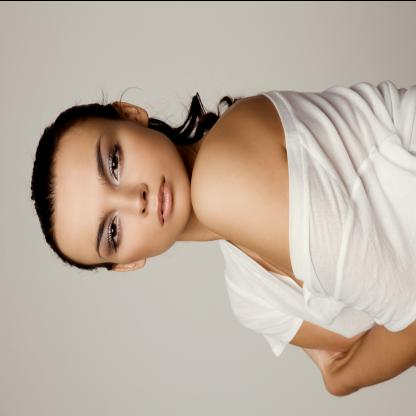Eye: (109, 138, 124, 183), (108, 211, 123, 252)
Mouth: (156, 173, 173, 226)
Nose: (116, 182, 149, 218)
